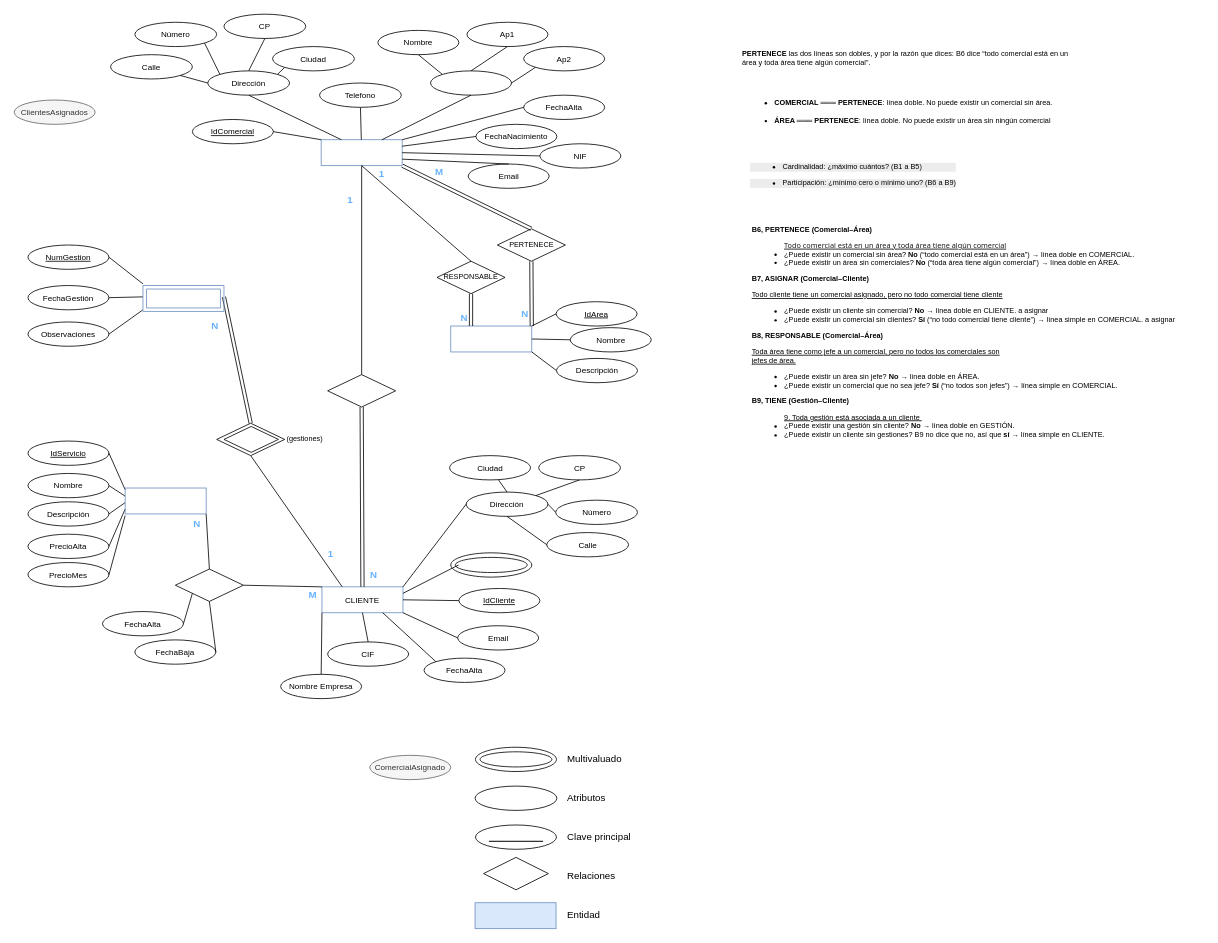
The diagram is 1218 pixels wide and 943 high, and some of its shapes have lost their labels. The centre of each missing label's shape, as x and y in pixels:
ASIGNAR: the point at 361,390
COMERCIAL: the point at 361,152
CONTRATA: the point at 209,584
Datos: the point at 471,82
GESTIÓN: the point at 183,298
SERVICIO: the point at 165,500
TeléfonoS: the point at 491,564
TIENE: the point at 250,439
ÁREA: the point at 491,338
